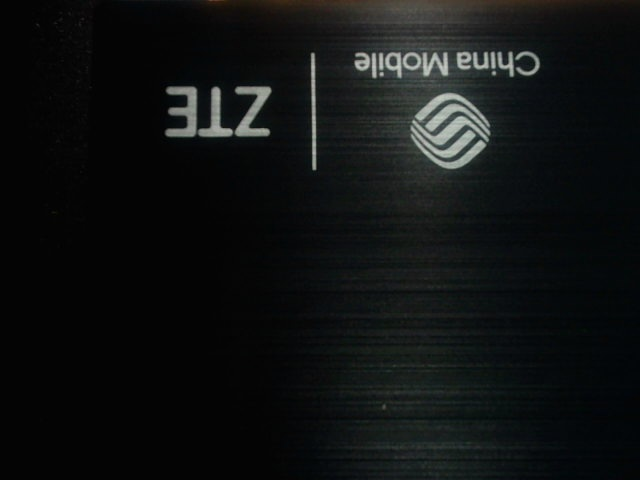AL_ZTEChinaMobile: (131, 26, 547, 178)
